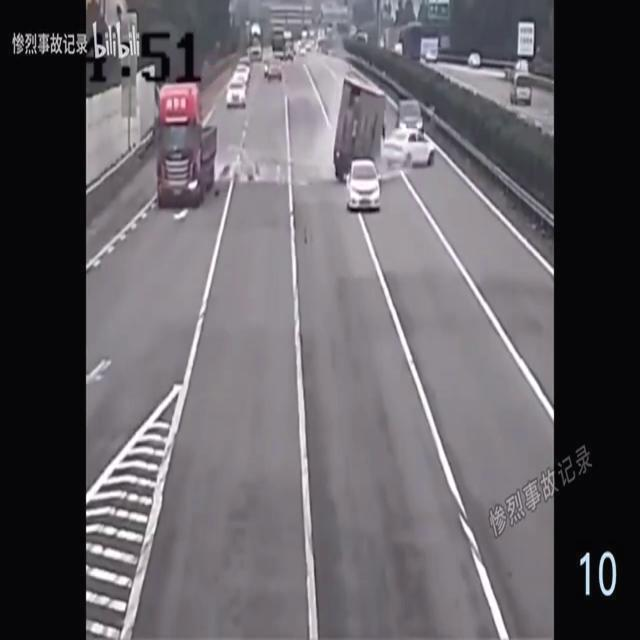accident: (332, 76, 436, 182)
non-accident: (226, 57, 252, 109), (262, 56, 282, 82)
